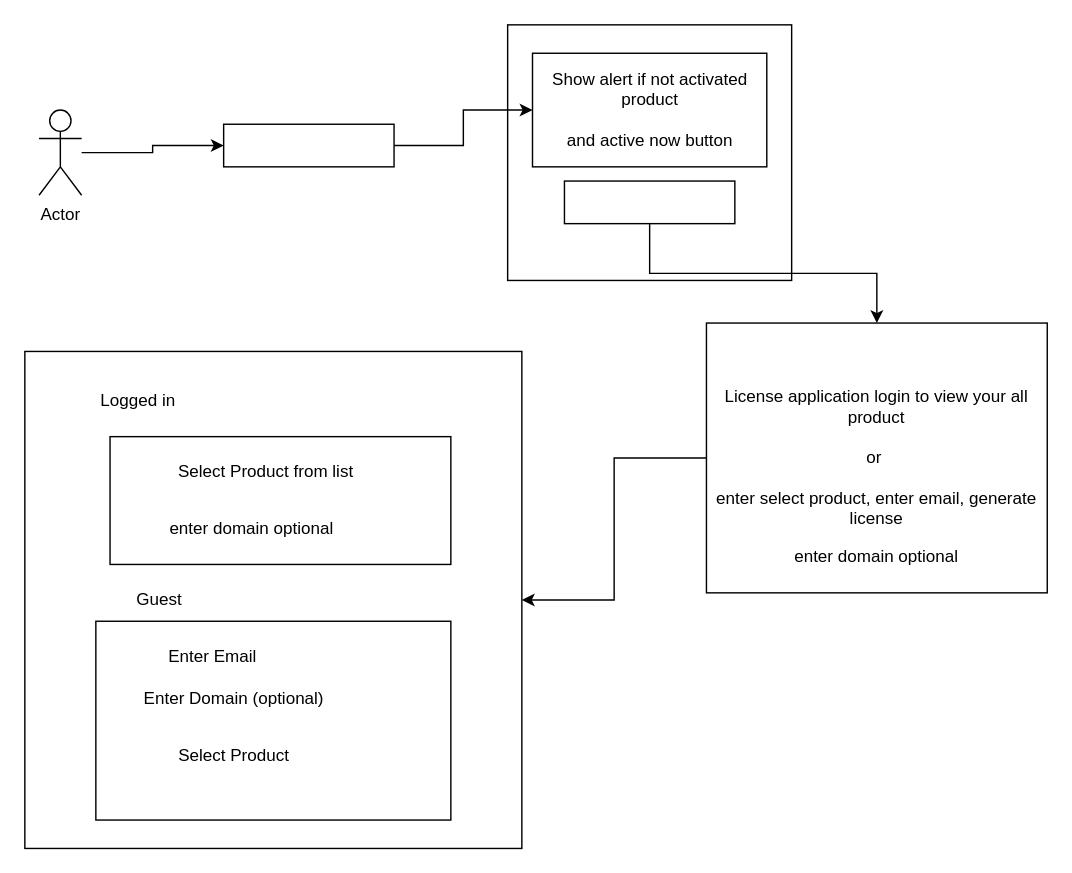
This 1072x873 diagram has some shape labels left out. Here are the shapes that lost their labels. From the top down, the box of each, then its label:
(222, 123, 394, 167): open applicaton
(563, 180, 735, 224): Acitivate now
